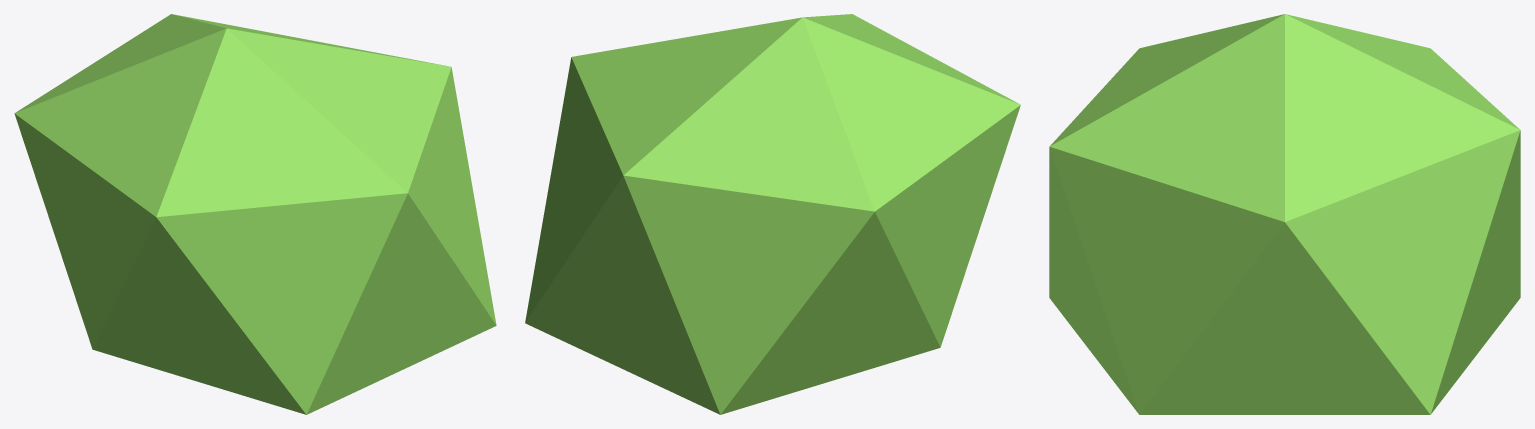
File: SmallBush.glb
The picture shows the model from 3 angles, left to right: view 1: azimuth 30°, elevation 25°; view 2: azimuth 150°, elevation 25°; view 3: azimuth 270°, elevation 25°; orthographic projection. The views are drawn at different scales.
Visible parts, largest first — view 1: SmallBush; view 2: SmallBush; view 3: SmallBush.
Boxes of the visible parts, box(x1,y1,x2,y2) form: SmallBush: box(14, 14, 496, 414); SmallBush: box(525, 14, 1020, 414); SmallBush: box(1049, 14, 1520, 414).
Size of the model in its own units: 0.9986 by 0.8041 by 1.08.
